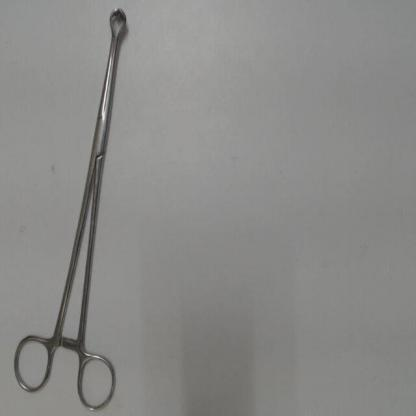8 Babcock Tissue Forceps: (8, 6, 134, 414)
